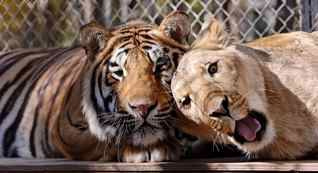Tigre: (72, 18, 175, 136)
